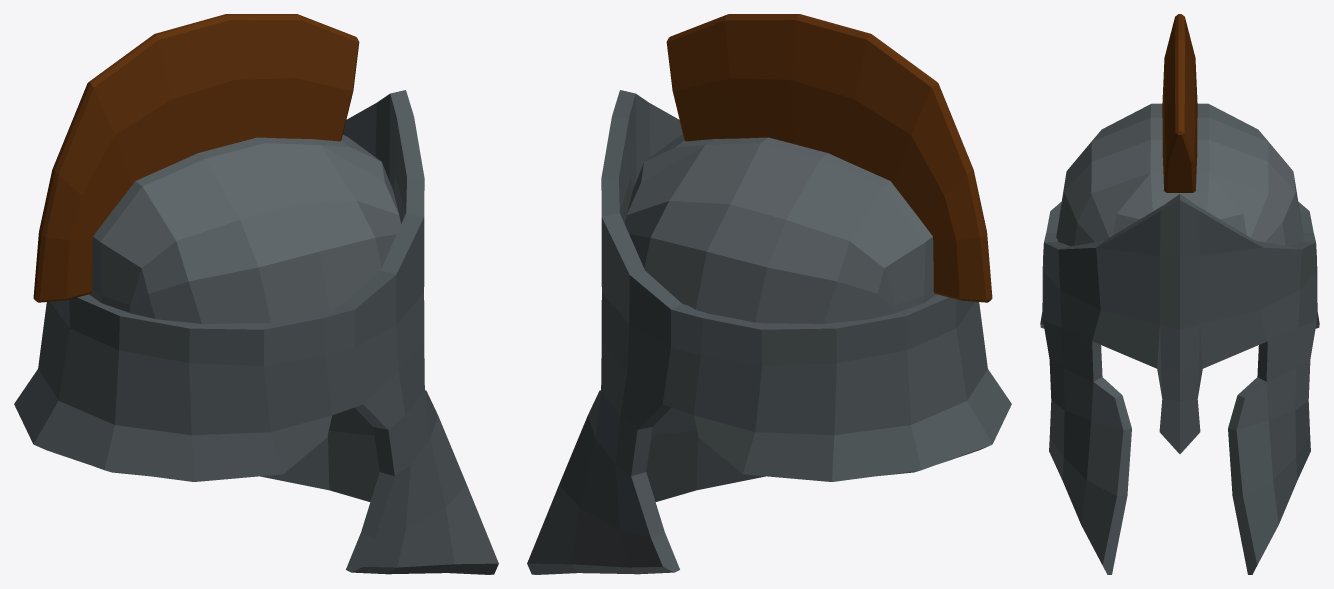
The model's file is Spartan_Helmet_02.fbx.
3 views of the same model, side by side, from view 1: azimuth 30°, elevation 25°; view 2: azimuth 150°, elevation 25°; view 3: azimuth 270°, elevation 25° (orthographic). The views are drawn at different scales.
Visible parts, largest first — view 1: Spartan_Helmet_02; view 2: Spartan_Helmet_02; view 3: Spartan_Helmet_02.
Part boxes in pixels (x1,y1,x2,y2): Spartan_Helmet_02: (14, 14, 498, 574); Spartan_Helmet_02: (527, 14, 1011, 574); Spartan_Helmet_02: (1040, 14, 1319, 574).
Size of the model in its own units: 36.87 by 49.24 by 27.53.
Materials: 1 (1 with a texture image).
